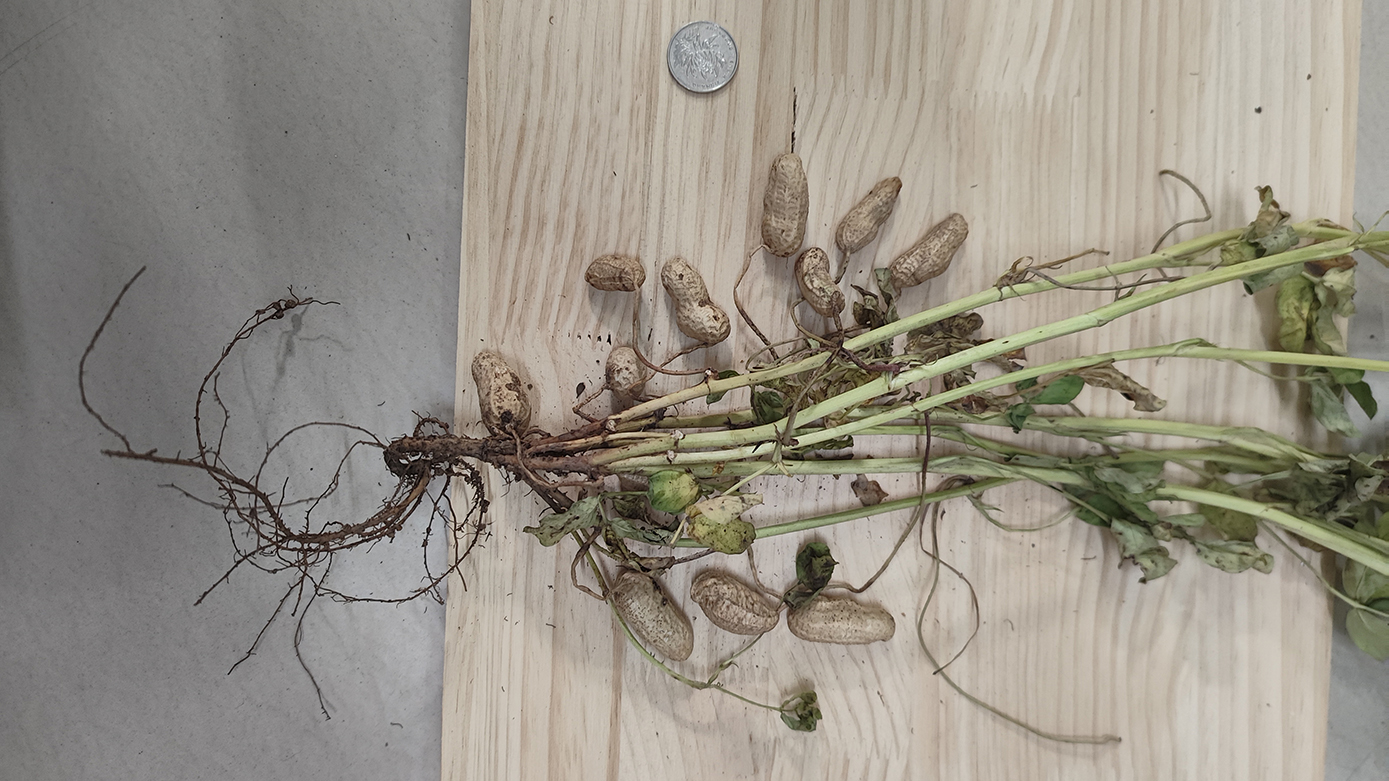h: (613, 570, 693, 662), (886, 212, 968, 290), (661, 255, 732, 342), (689, 572, 781, 635), (787, 594, 898, 646), (831, 175, 903, 254), (761, 151, 809, 259), (472, 350, 532, 436), (795, 244, 844, 318), (583, 254, 645, 292), (606, 344, 648, 399)
